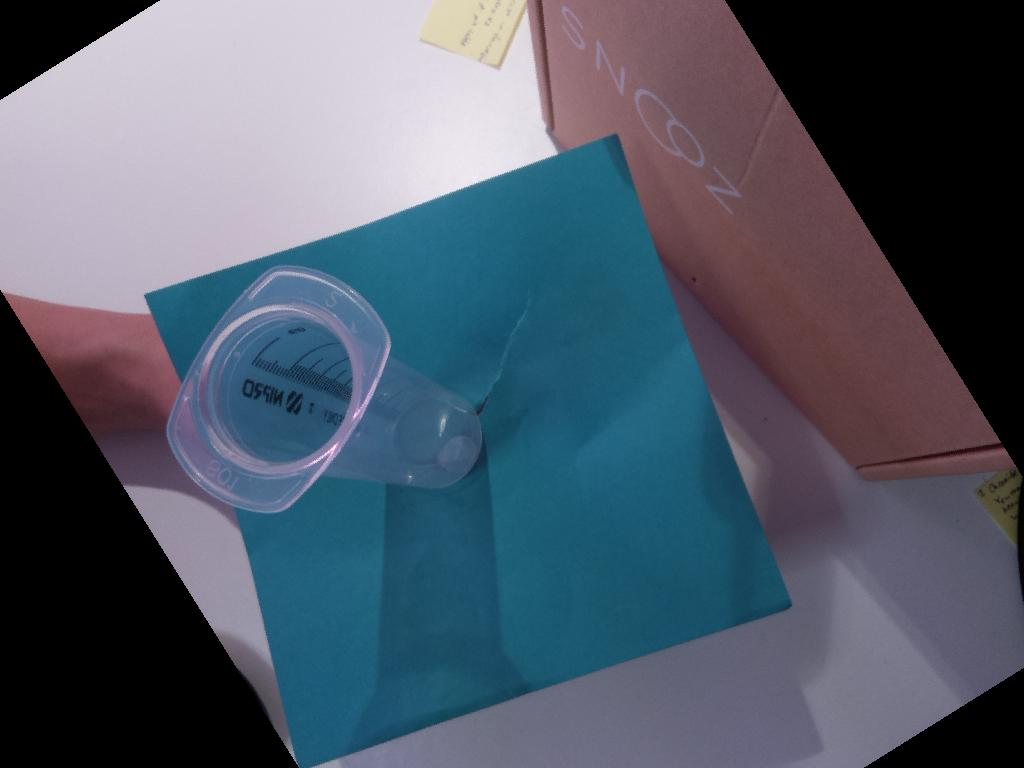clean: (165, 263, 391, 514)
